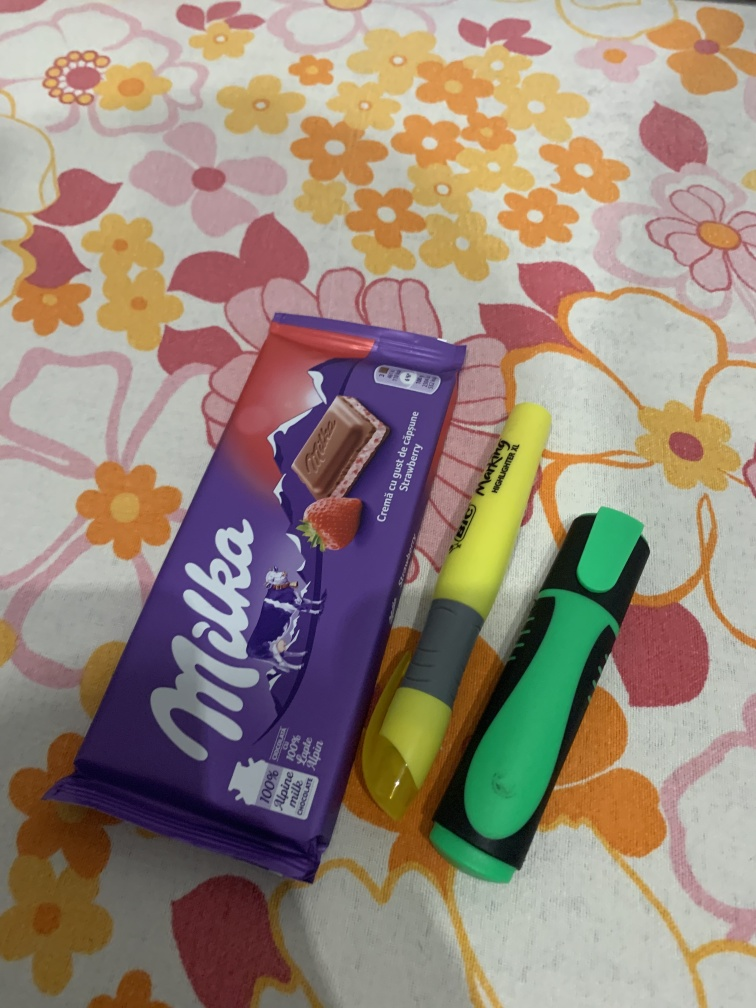milka: (43, 306, 465, 892)
